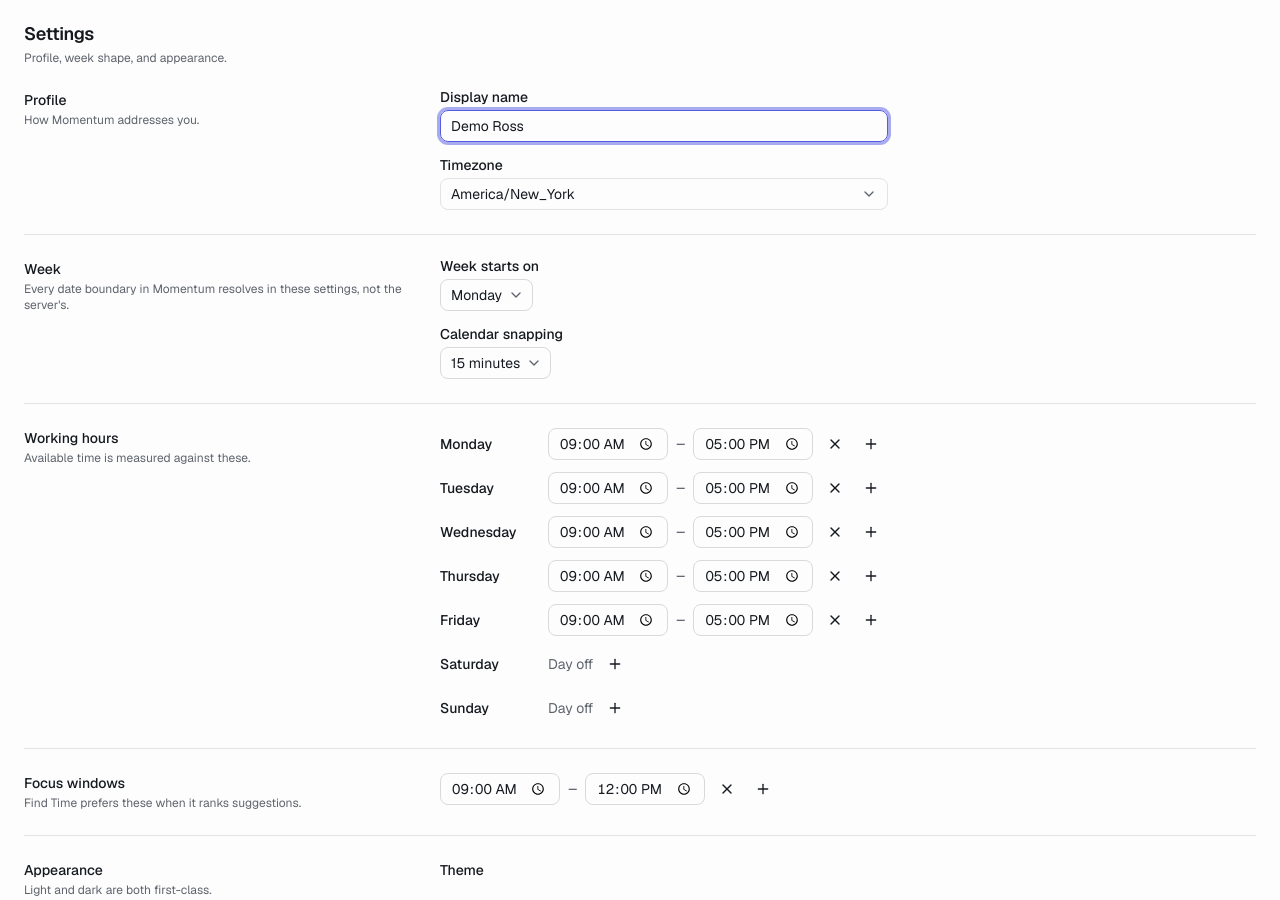
display name › abandons the edit on Escape rather than committing it
Replace the text in the field labelled "Display name" with "DELETE ME" at (664, 126), box [440, 110, 888, 142]
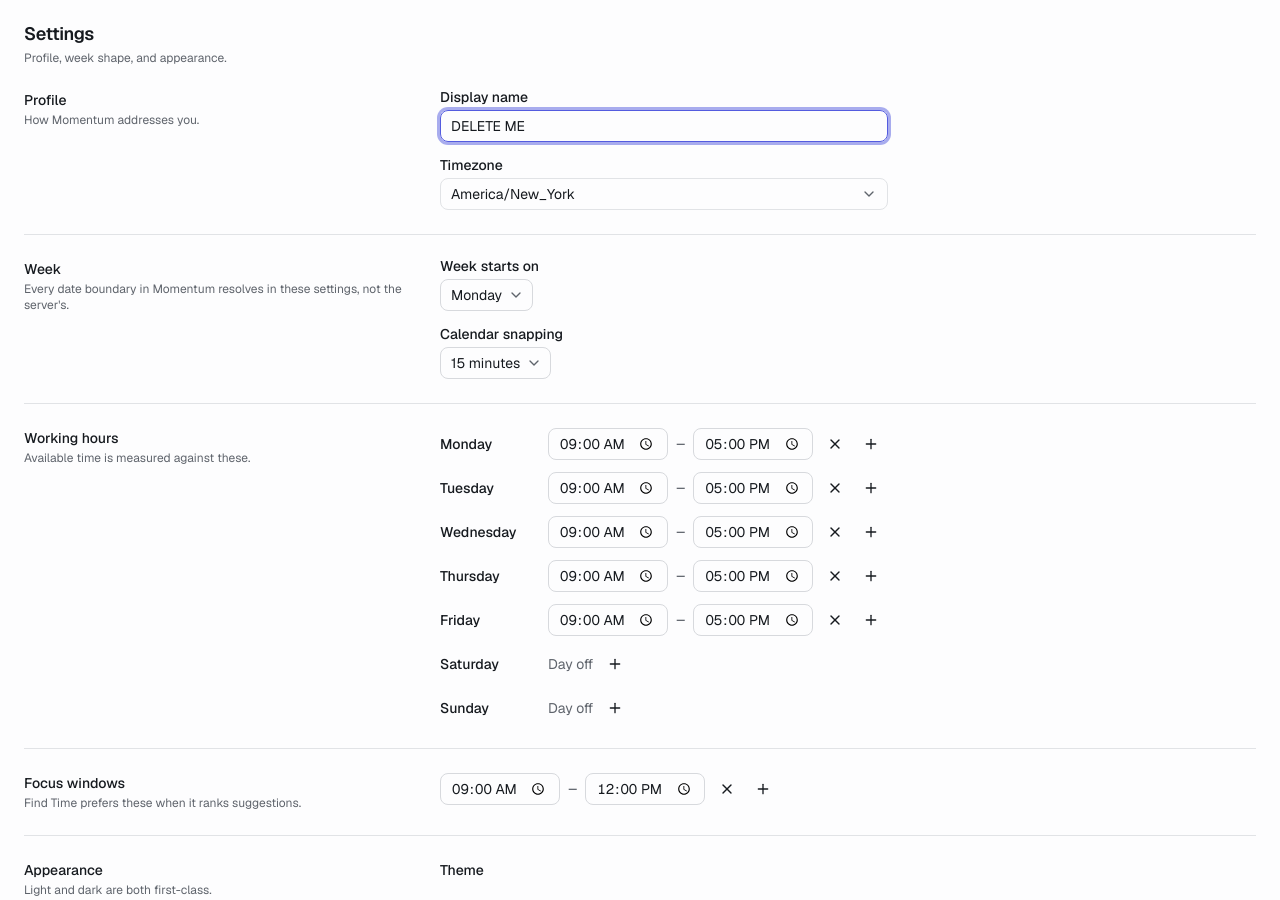
Press Escape in the field labelled "Display name", box [440, 110, 888, 142]
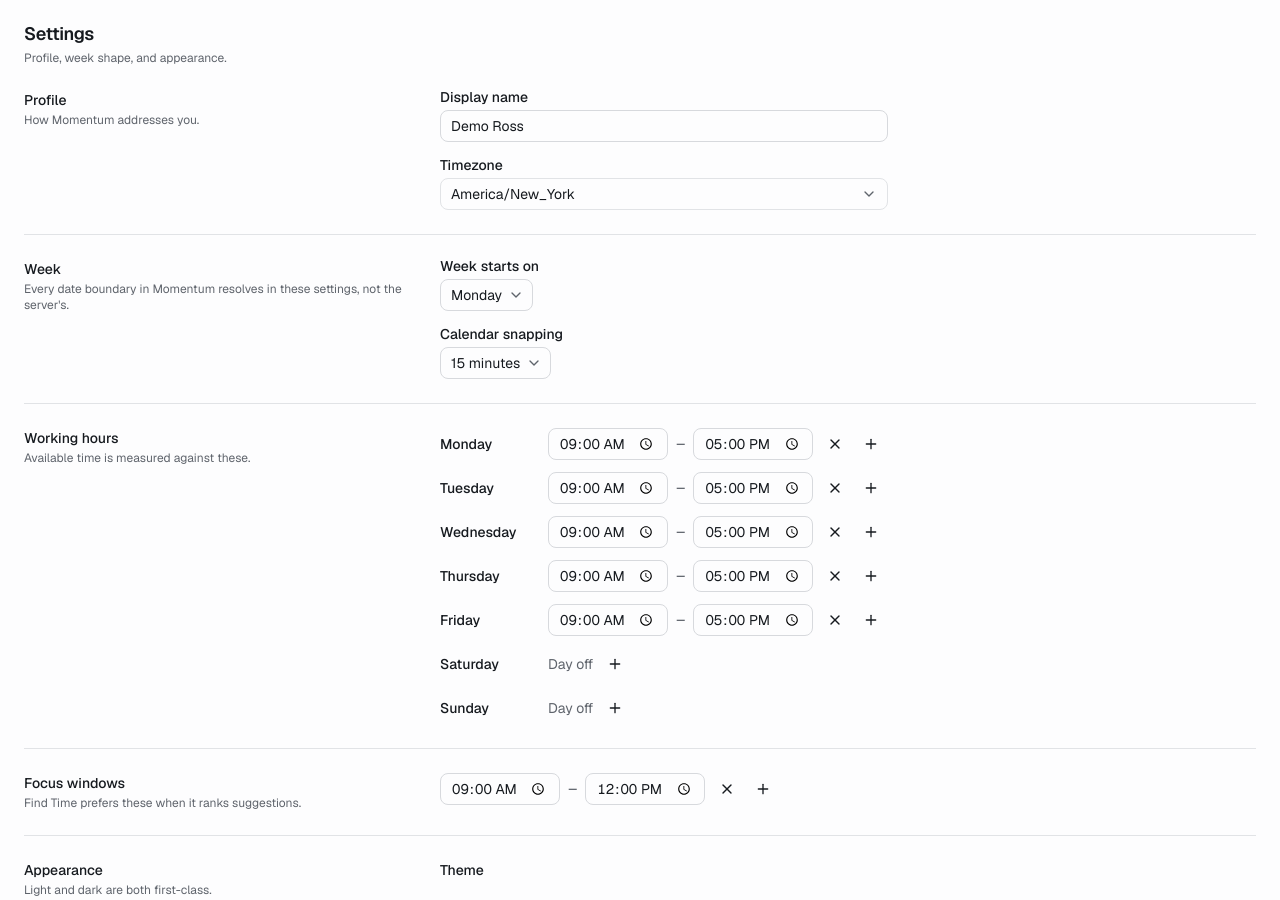
Expected: the field labelled "Display name" holds "Demo Ross", [440, 110, 888, 142]
